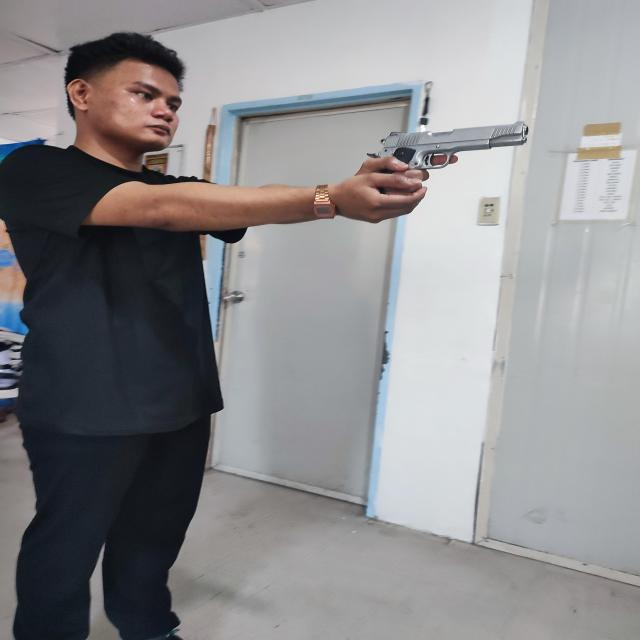pistol: (367, 121, 528, 173)
